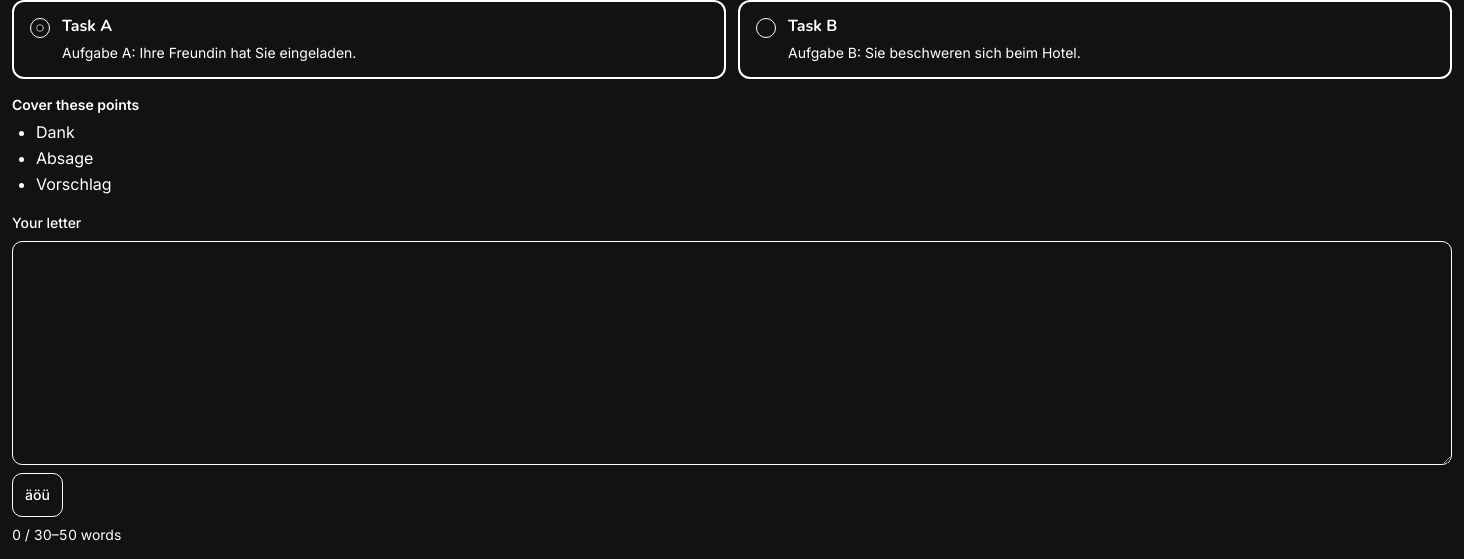
Scenario: LetterTaskInput › offers both tasks as a choice, shows the chosen one’s Leitpunkte, and counts words
The width and height of the screenshot is (1464, 559).
Check: the element named "Choose a task" is shown, box 12,0 -> 1452,79
Check: the list item "Absage" is shown, box 36,148 -> 93,168
Click the radio button named "Task B" next to "Task B" at (766,28), box 756,18 -> 776,38
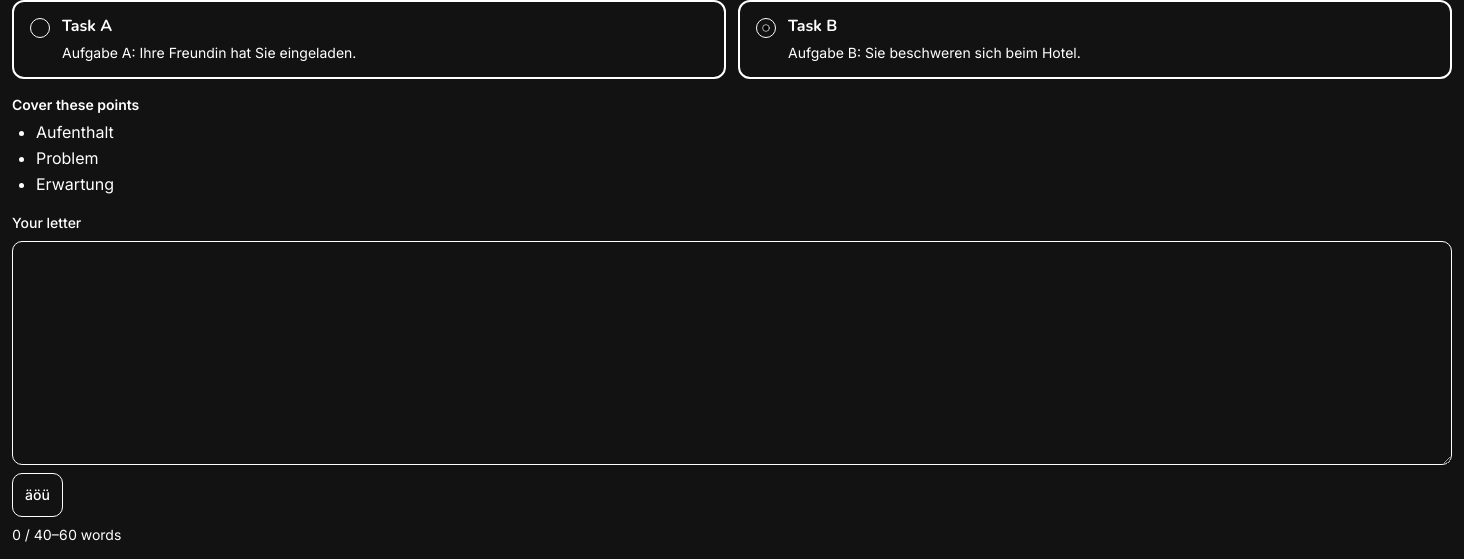
Check: the list item "Erwartung" is shown, box 36,174 -> 114,194
Check: the list item "Absage" is gone
Type "Sehr geehrte Damen und Herren" into the text box labelled "Your letter" at (732,353), box 12,241 -> 1452,465
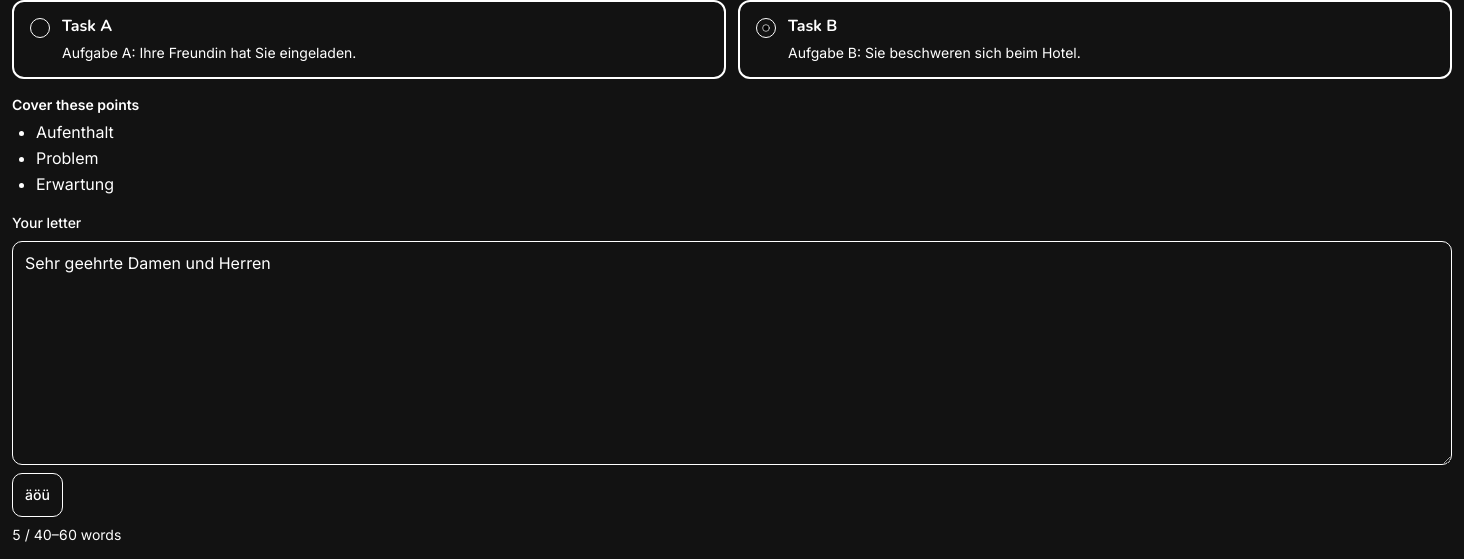
Check: the text "5 / 40–60 words" is shown, box 12,526 -> 121,543
// The choice can change until submit, and keeps the text.
Click the radio button named "Task A" next to "Task A" at (40,28), box 30,18 -> 50,38
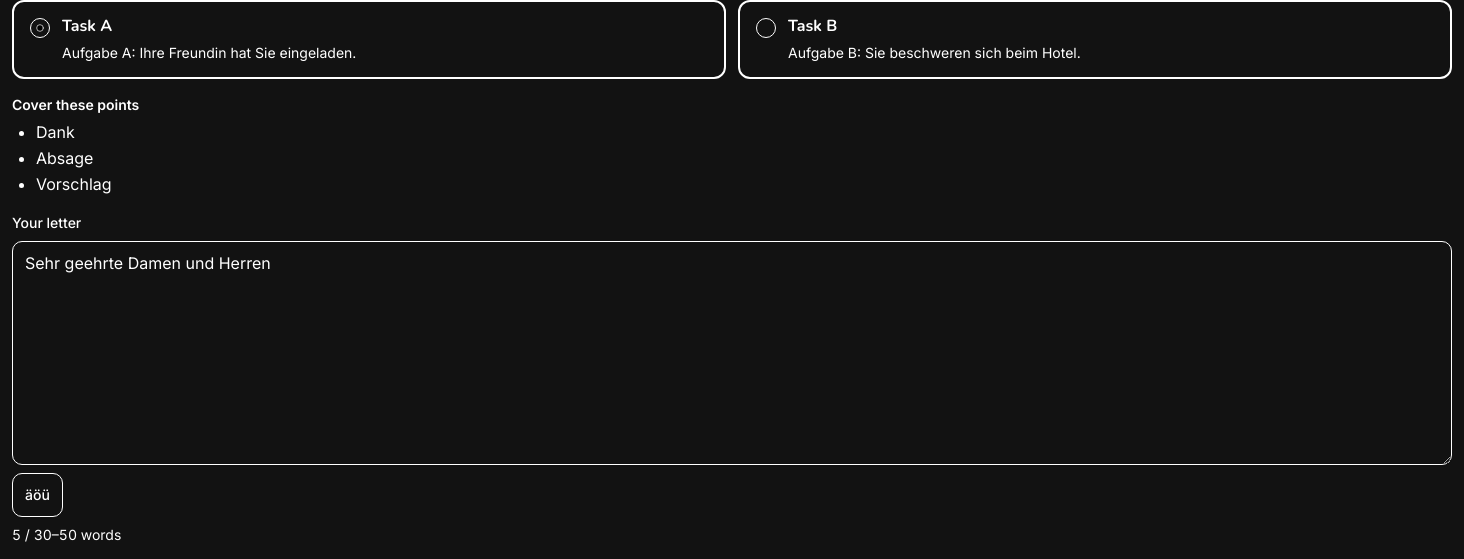
Check: the text "5 / 30–50 words" is shown, box 12,526 -> 121,543
